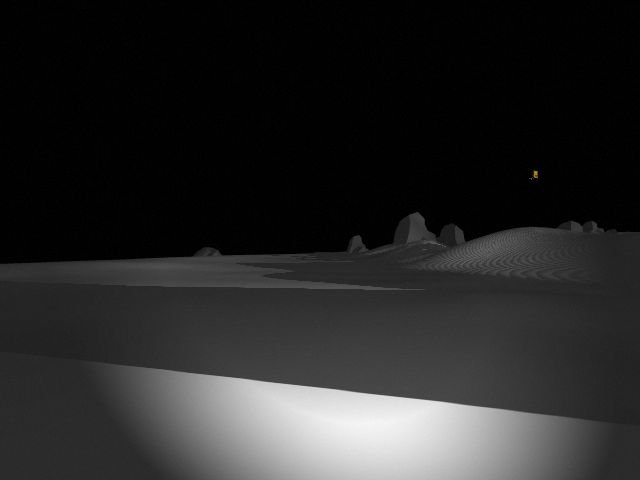cubesat: (526, 169, 539, 185)
